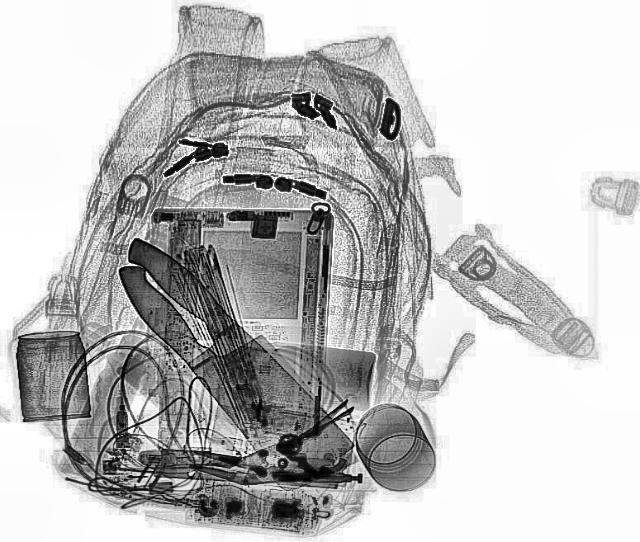Knife: (72, 226, 360, 493), (102, 236, 364, 496)
